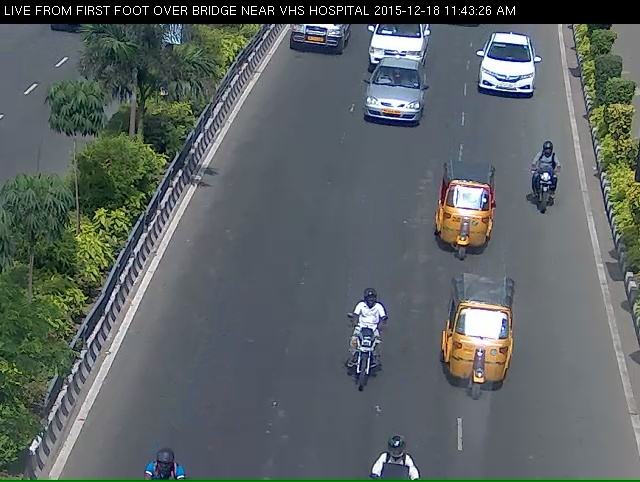Car: (436, 276, 525, 436), (432, 157, 503, 273), (355, 62, 427, 139), (479, 41, 543, 115), (362, 18, 430, 78), (363, 20, 432, 77), (281, 23, 345, 64)
Person: (340, 322, 386, 425), (531, 151, 565, 227)
